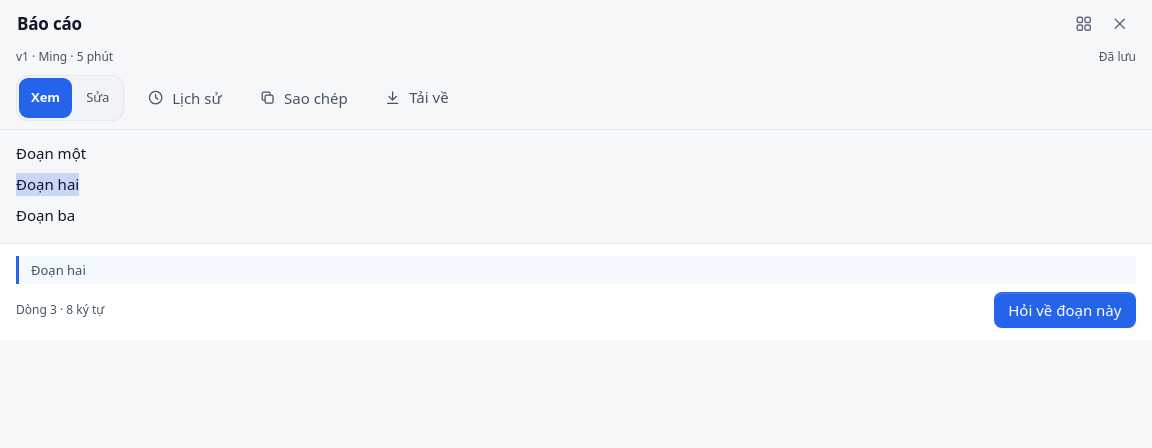
Test case: a canvas being read › is hidden for the history, and keeps a question begun through a look at it
Click the button "Hỏi về đoạn này": (1065,310) [994,292,1136,328]
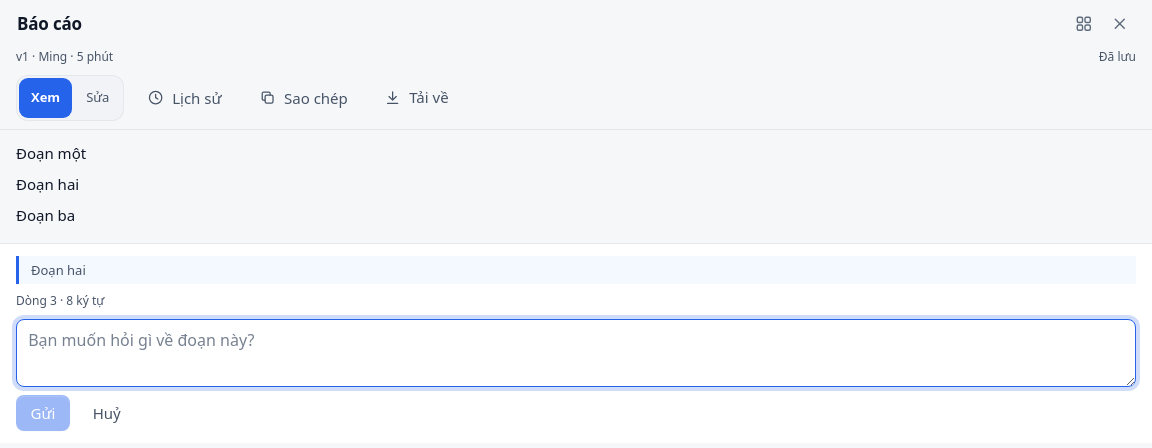
In the text box named "Câu hỏi về đoạn này": (576,353) [16,319,1136,387], type "câu hỏi dở"
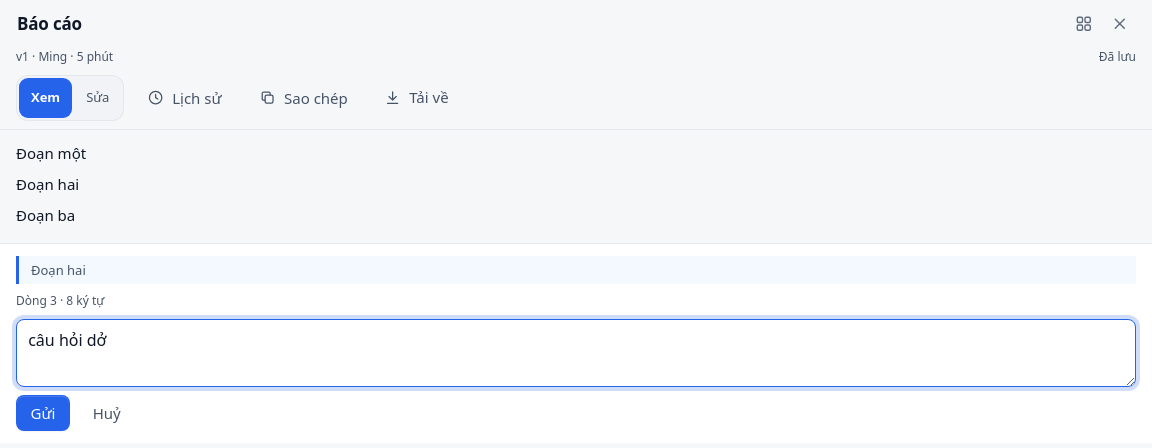
Click the button "Lịch sử": (184,98) [132,80,236,116]
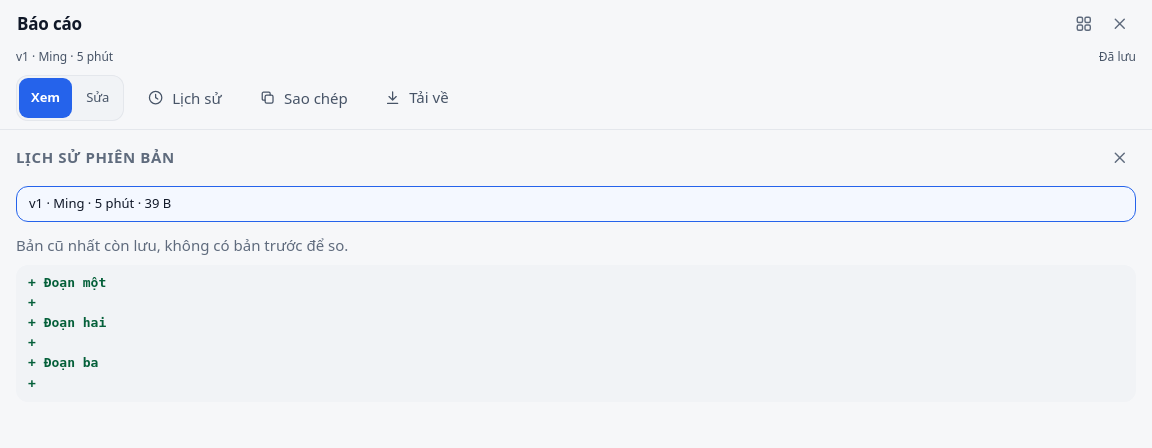
Click the button "Lịch sử": (184,98) [132,80,236,116]
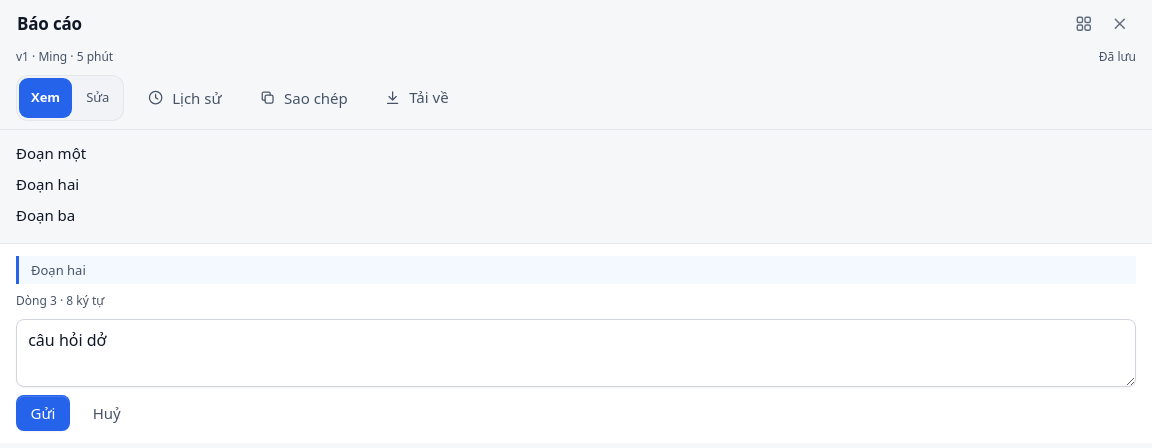
expect the text box named "Câu hỏi về đoạn này" holds "câu hỏi dở": met, box [16,319,1136,387]
expect the text "Đoạn hai" below "Đoạn một" is shown: met, box [16,174,79,194]
